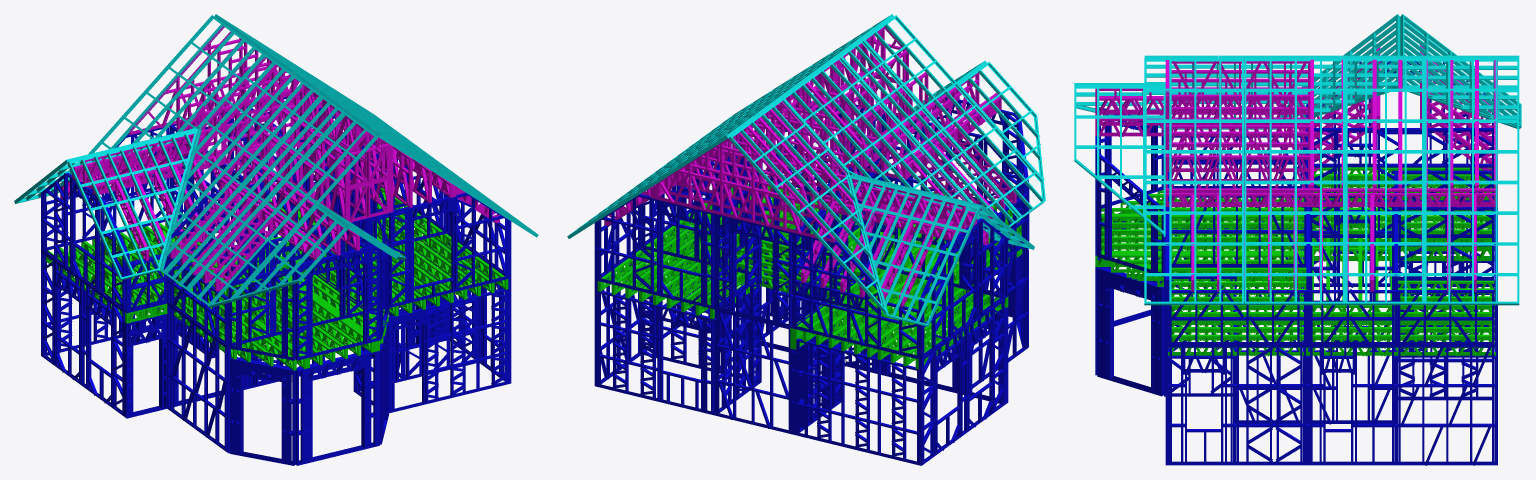
File: house.glb
The picture shows the model from 3 angles, left to right: view 1: azimuth 30°, elevation 25°; view 2: azimuth 150°, elevation 25°; view 3: azimuth 270°, elevation 25°; orthographic projection. The views are drawn at different scales.
Visible parts, largest first — view 1: W1, W2, R2, S2, F2; view 2: W1, W2, R2, S2, F2; view 3: R2, W1, F2, S2, W2, F1.
Boxes of the visible parts, <box> form: W1: <box>41,200,511,465</box>; W2: <box>41,94,511,360</box>; R2: <box>14,14,538,307</box>; S2: <box>60,26,499,291</box>; F2: <box>45,187,508,370</box>; W1: <box>594,189,1028,465</box>; W2: <box>594,94,1029,359</box>; R2: <box>567,14,1045,326</box>; S2: <box>604,26,1016,306</box>; F2: <box>597,181,1022,369</box>; R2: <box>1074,14,1521,305</box>; W1: <box>1095,170,1497,465</box>; F2: <box>1095,167,1495,356</box>; S2: <box>1095,45,1497,291</box>; W2: <box>1095,61,1497,345</box>; F1: <box>1314,247,1494,261</box>.
Size of the model in its own units: 111 by 86.4 by 105.
